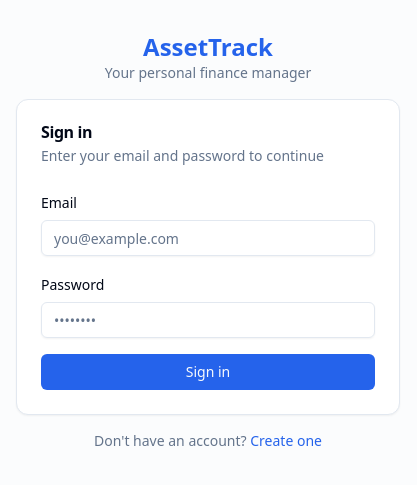
Test: Login page › submitting empty form shows validation errors
This screenshot has width=417, height=485.
Click the button "Sign in".
click(208, 372)  # box [41, 354, 375, 390]
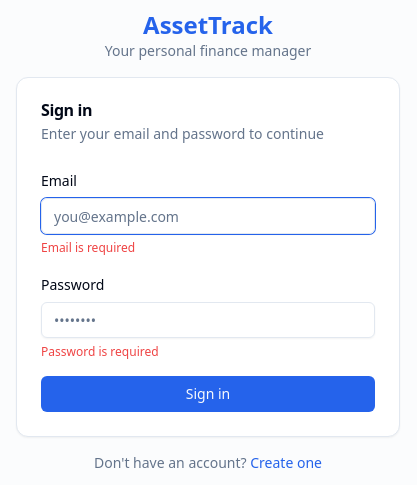
expect the text "Email is required" is shown: met, box [41, 239, 135, 256]
expect the text "Password is required" is shown: met, box [41, 343, 159, 360]
